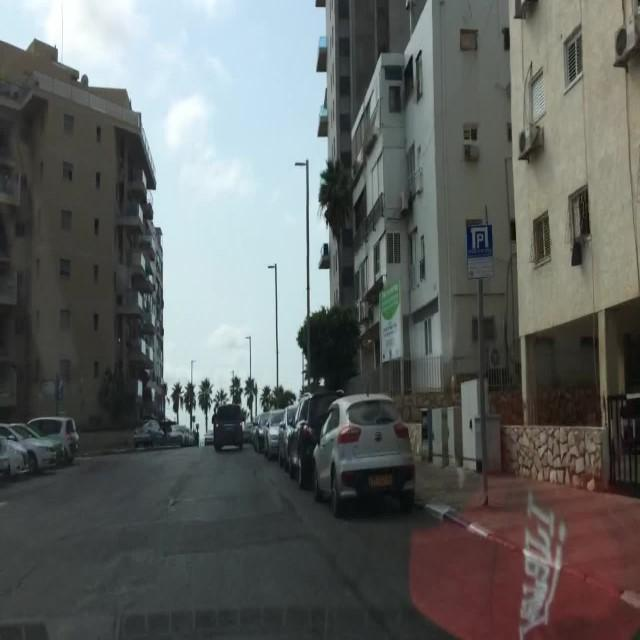normal: (311, 392, 417, 513), (280, 394, 316, 484), (0, 422, 56, 474), (25, 415, 81, 463), (260, 410, 287, 458), (132, 421, 168, 448), (171, 424, 200, 445)
